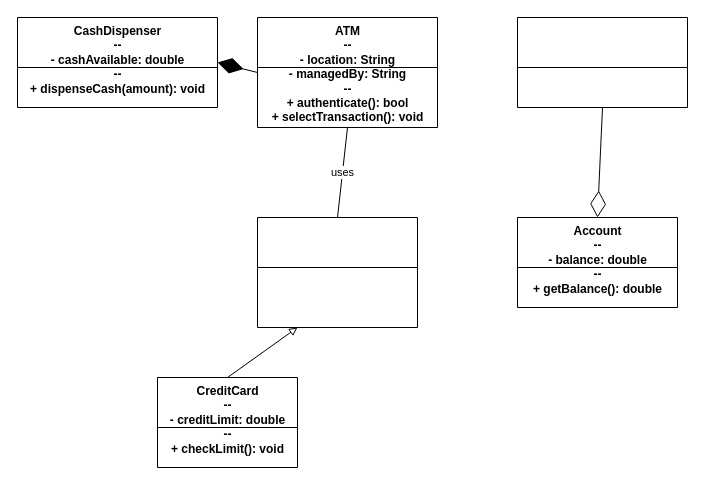
Some shapes in this 705 by 485 pixel diagram are drawn without their labels. The centre of each missing label's shape, as x and y in pixels:
"Bank -- + bankCode: String -- + manageAccount(): void" belongs at (602,62).
"Card -- # cardNumber: String # expiryDate: Date -- + validatePin(): bool" belongs at (337,272).
